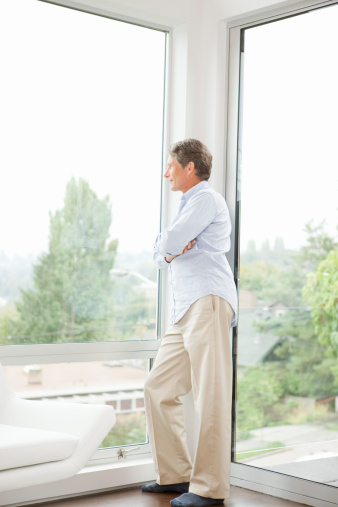em pe: (132, 134, 233, 457)
